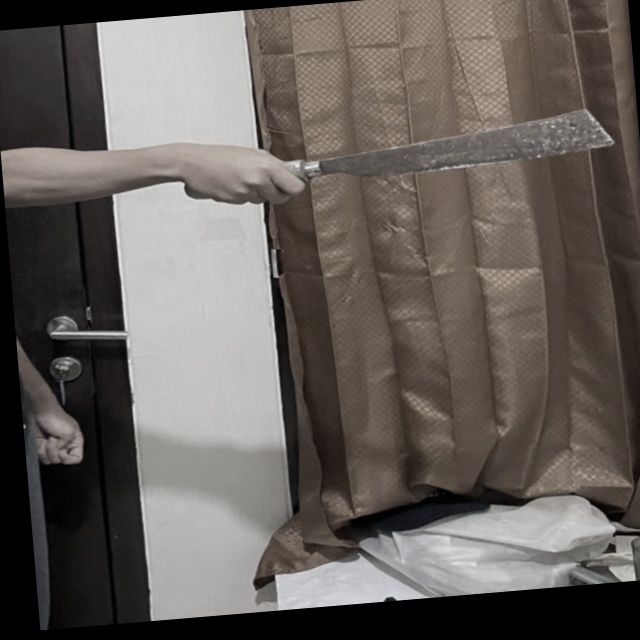Sharp-Object: (278, 104, 619, 185)
